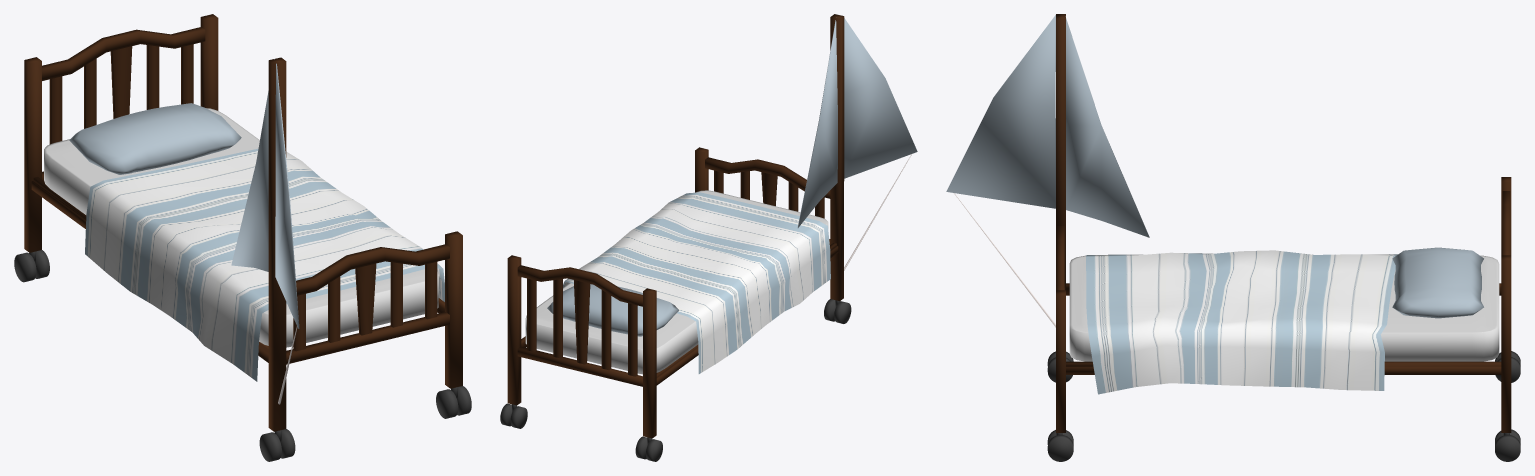
Rendered from krevet.fbx.
3 renders of one model, left to right at view 1: azimuth 30°, elevation 25°; view 2: azimuth 150°, elevation 25°; view 3: azimuth 270°, elevation 25°, orthographic. The views are drawn at different scales.
Visible parts, largest first — view 1: bed01_two_old_beds.005, boat-sail.001, Cylinder.001, Cylinder.005, Cylinder.017; view 2: bed01_two_old_beds.005, boat-sail.001, Cylinder.005, Cylinder.001, Cylinder.003; view 3: bed01_two_old_beds.005, boat-sail.001, Cylinder.017, Cylinder.003.
Part boxes in pixels (<box>): bed01_two_old_beds.005: <box>24,14,462,431</box>; boat-sail.001: <box>231,59,299,328</box>; Cylinder.001: <box>259,429,295,461</box>; Cylinder.005: <box>14,250,49,282</box>; Cylinder.017: <box>436,386,471,418</box>; bed01_two_old_beds.005: <box>507,14,844,438</box>; boat-sail.001: <box>797,15,917,227</box>; Cylinder.005: <box>635,436,662,461</box>; Cylinder.001: <box>824,299,851,323</box>; Cylinder.003: <box>500,403,527,428</box>; bed01_two_old_beds.005: <box>1056,14,1511,432</box>; boat-sail.001: <box>946,15,1149,237</box>; Cylinder.017: <box>1047,430,1073,461</box>; Cylinder.003: <box>1495,429,1520,461</box>.
Bounding box in the file's own units: 252 × 402 × 577.
8 materials, 1 textured.
